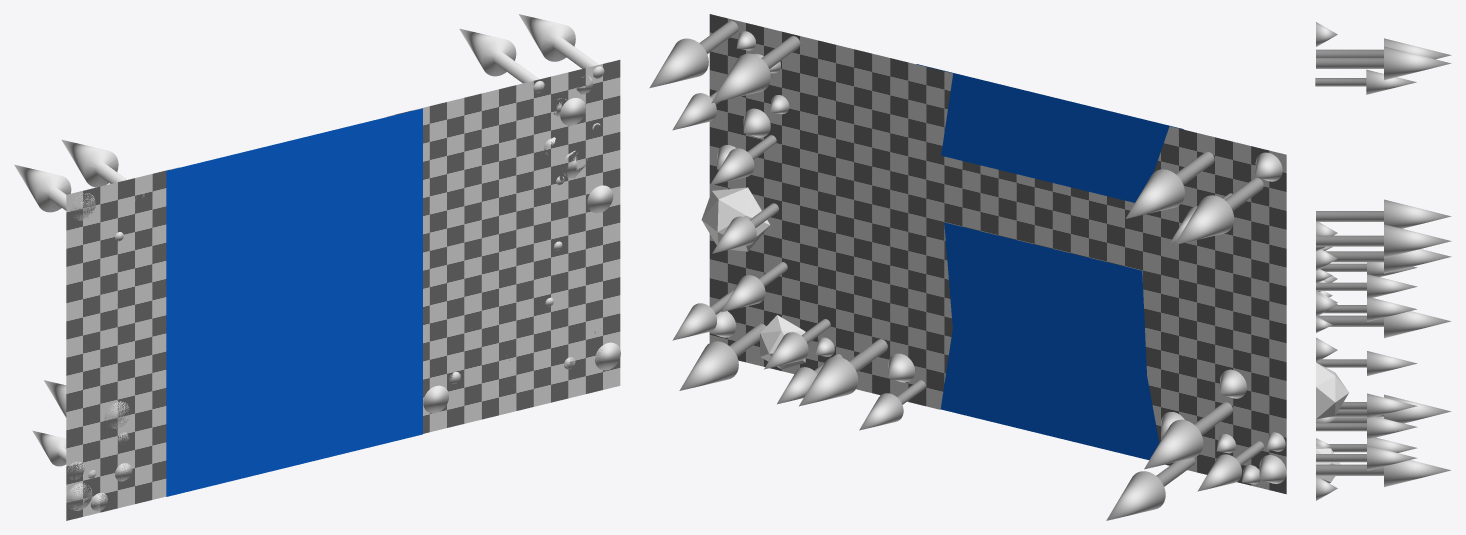
The model's file is forest15.dae.
3 views of the same model, side by side, from view 1: azimuth 30°, elevation 25°; view 2: azimuth 150°, elevation 25°; view 3: azimuth 270°, elevation 25° (orthographic). The views are drawn at different scales.
Parts seen in each view (by area): view 1: Plane.048, Plane, Cone.2223, Cone.2254, Cone.2229, Cone.2239, Cone.2243; view 2: Plane.048, Plane, Cone.2244, Cone.2254, Cone.2256, Cone.2223, Cone.2229, Cone.2239, Cone.2235, Cone.2260, Icosphere.055, Cone.2255 (+9 smaller); view 3: Cone.2223, Cone.2229, Cone.2254, Cone.2260, Cone.2235, Cone.2244, Icosphere.055, Cone.2265, Cone.2239, Cone.2267, Cone.2257, Cone.2256 (+14 smaller).
Boxes of the visible parts, box(x1,y1,x2,y2) form: Plane.048: box(66, 60, 620, 520); Plane: box(166, 108, 422, 496); Cone.2223: box(519, 14, 604, 78); Cone.2254: box(459, 28, 544, 93); Cone.2229: box(61, 139, 144, 197); Cone.2239: box(14, 164, 98, 225); Cone.2243: box(32, 430, 96, 478); Plane.048: box(709, 14, 1286, 494); Plane: box(916, 64, 1183, 459); Cone.2244: box(1144, 402, 1232, 469); Cone.2254: box(711, 36, 800, 103); Cone.2256: box(799, 339, 887, 406); Cone.2223: box(649, 21, 738, 88); Cone.2229: box(1125, 151, 1214, 218); Cone.2239: box(1175, 177, 1263, 244); Cone.2235: box(1106, 457, 1195, 520); Cone.2260: box(679, 323, 766, 390); Icosphere.055: box(701, 187, 769, 251); Cone.2255: box(859, 380, 925, 430); Cone.2223: box(1316, 224, 1451, 257); Cone.2229: box(1316, 46, 1451, 80); Cone.2254: box(1316, 199, 1451, 228); Cone.2260: box(1316, 460, 1450, 487); Cone.2235: box(1317, 311, 1450, 338); Cone.2244: box(1326, 249, 1451, 273); Icosphere.055: box(1316, 362, 1348, 419); Cone.2265: box(1316, 445, 1417, 470); Cone.2239: box(1316, 38, 1451, 59); Cone.2267: box(1316, 274, 1417, 299); Cone.2257: box(1316, 416, 1417, 439); Cone.2256: box(1328, 394, 1451, 423).
Bounding box in the file's own units: 64.07 × 16.1 × 38.05.
Materials: 2 (1 with a texture image).
